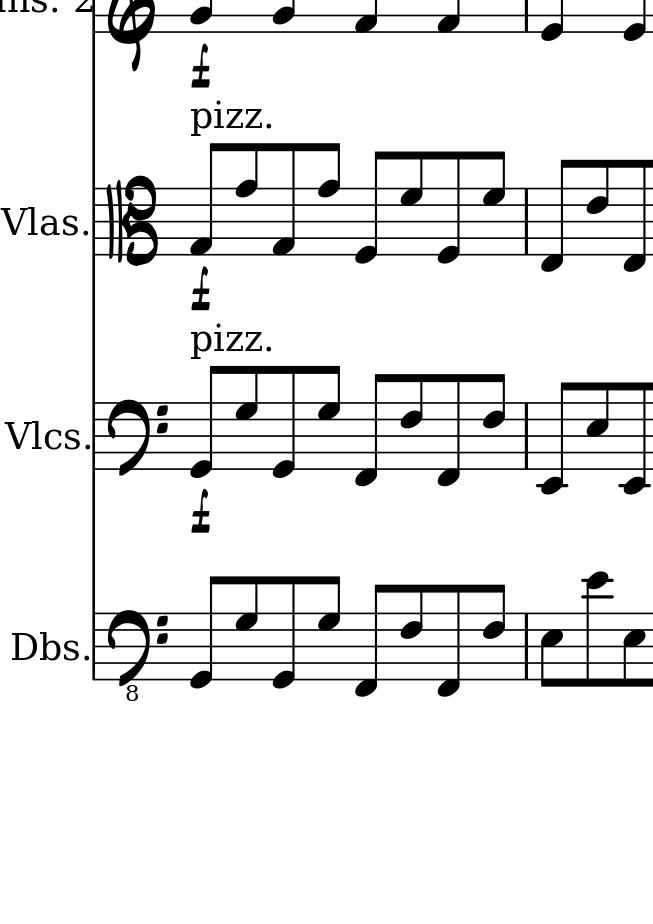8_-1: (534, 157, 575, 272), (350, 371, 387, 489), (350, 582, 386, 701), (619, 158, 650, 275), (434, 583, 463, 700), (436, 372, 463, 489)
8_-2: (539, 381, 576, 497), (617, 379, 649, 498)
8_0: (183, 573, 224, 690), (188, 363, 228, 481), (354, 150, 391, 266), (269, 362, 300, 482), (434, 149, 465, 269), (271, 573, 299, 692)
8_1: (188, 141, 225, 258), (271, 141, 300, 258)
8_12: (583, 570, 613, 687)
8_5: (478, 371, 506, 471), (585, 381, 612, 472), (538, 611, 564, 692), (621, 610, 647, 688)
8_6: (397, 372, 426, 473), (396, 582, 425, 682), (585, 157, 611, 258), (481, 581, 506, 684)
8_7: (311, 363, 343, 471), (232, 364, 261, 469), (232, 574, 260, 681), (400, 150, 426, 258), (481, 149, 507, 257), (317, 574, 342, 680)
8_8: (234, 142, 261, 258), (317, 141, 343, 260)
Cclef: (105, 175, 162, 264)
Dbs: (11, 628, 78, 662)
Fclef: (104, 397, 180, 479)
Lower_Fclef: (106, 607, 169, 705)
Single_barline: (518, 614, 535, 678), (519, 188, 535, 255), (518, 403, 534, 469), (87, 612, 102, 679), (87, 403, 102, 469), (87, 188, 101, 256)
Vla: (4, 203, 60, 243)
Vlc: (1, 412, 64, 458)
f: (187, 486, 214, 537), (188, 42, 214, 90), (188, 264, 212, 313)
